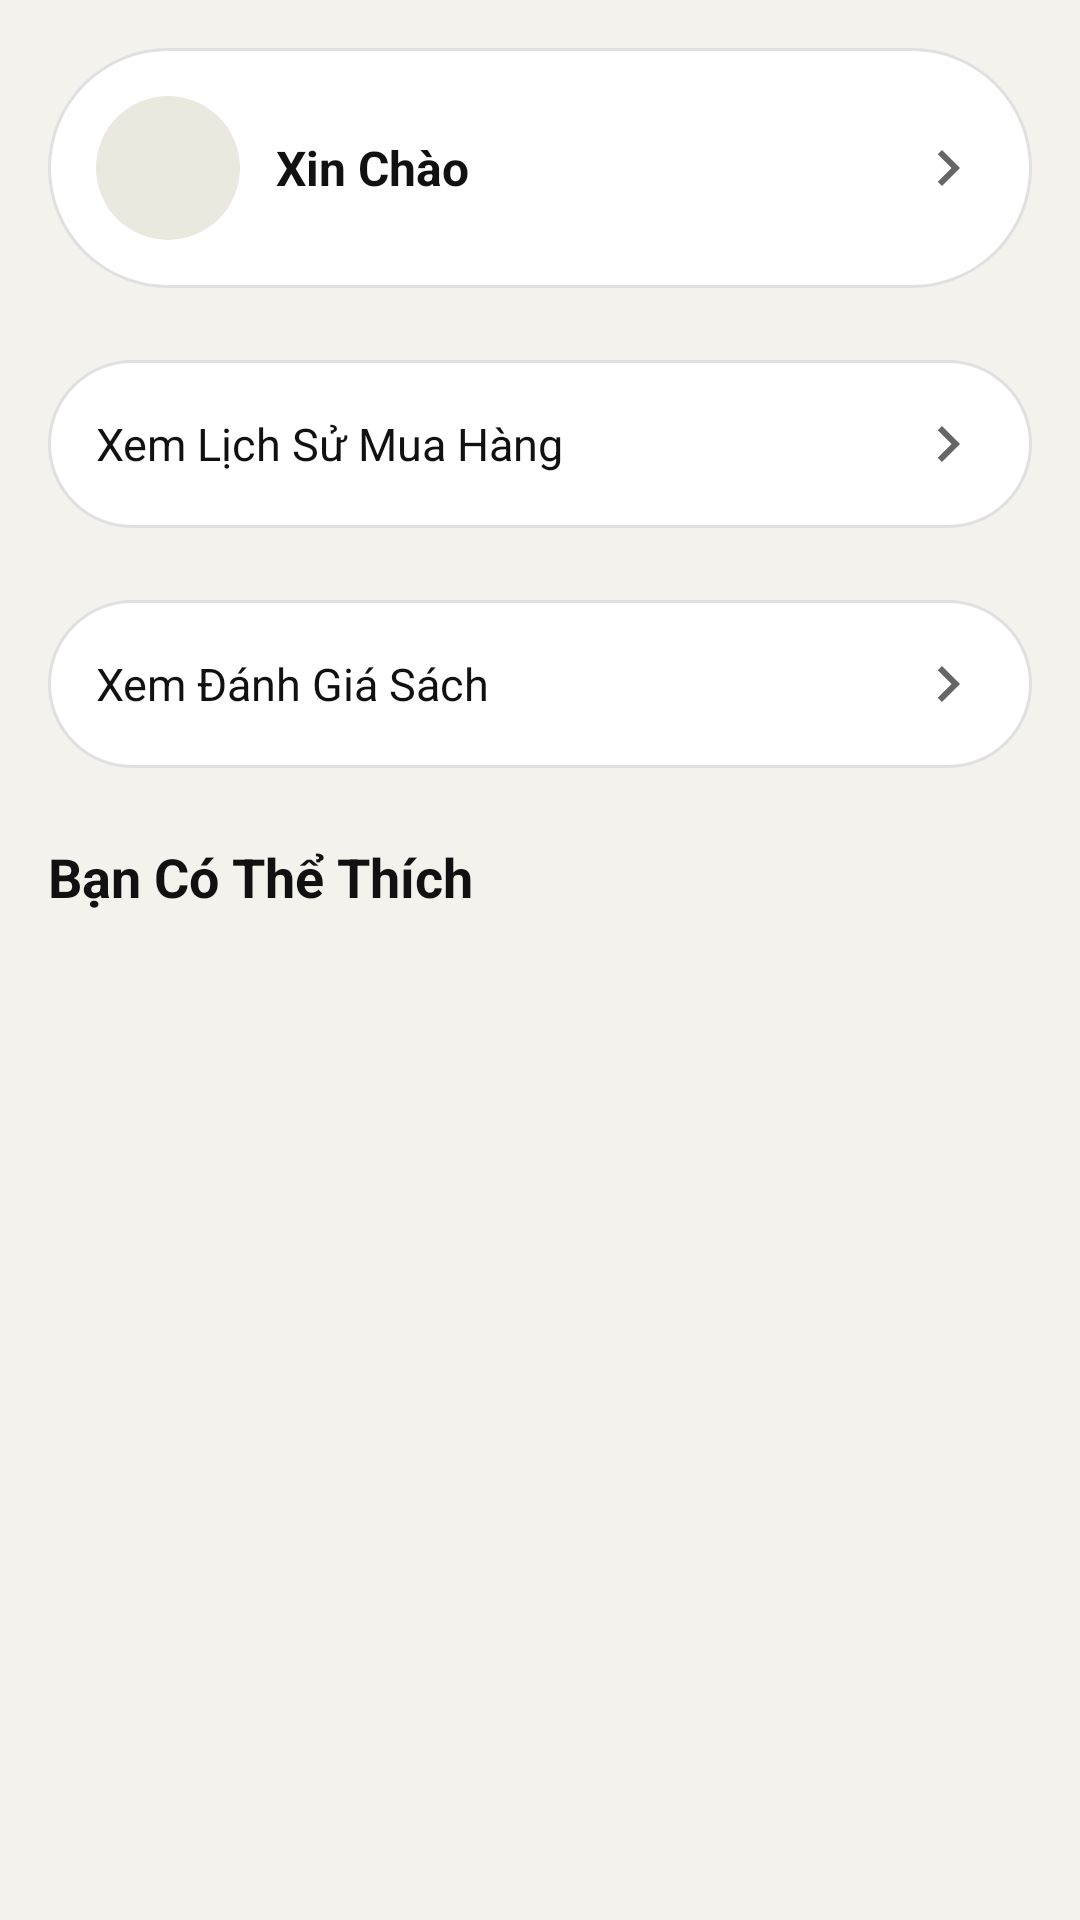

Icon click points for this 1080x1920 phone screenshot, format [x,y]:
arrow right: [949,168], [949,444], [949,684]
